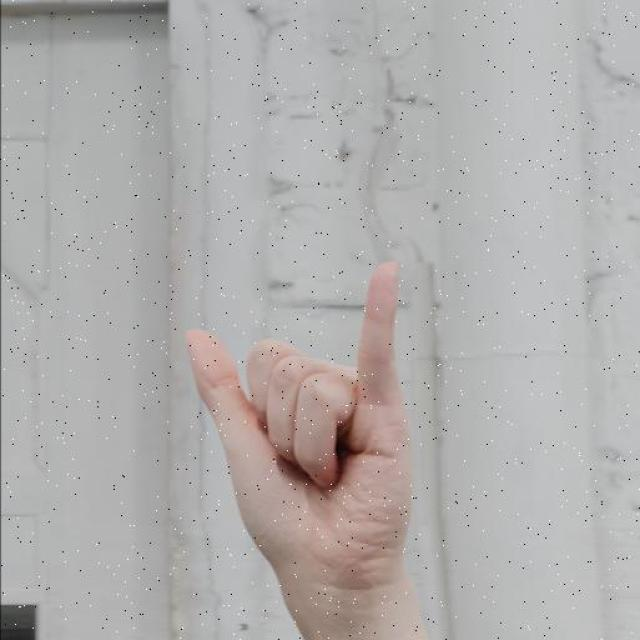Y: (181, 258, 419, 602)
